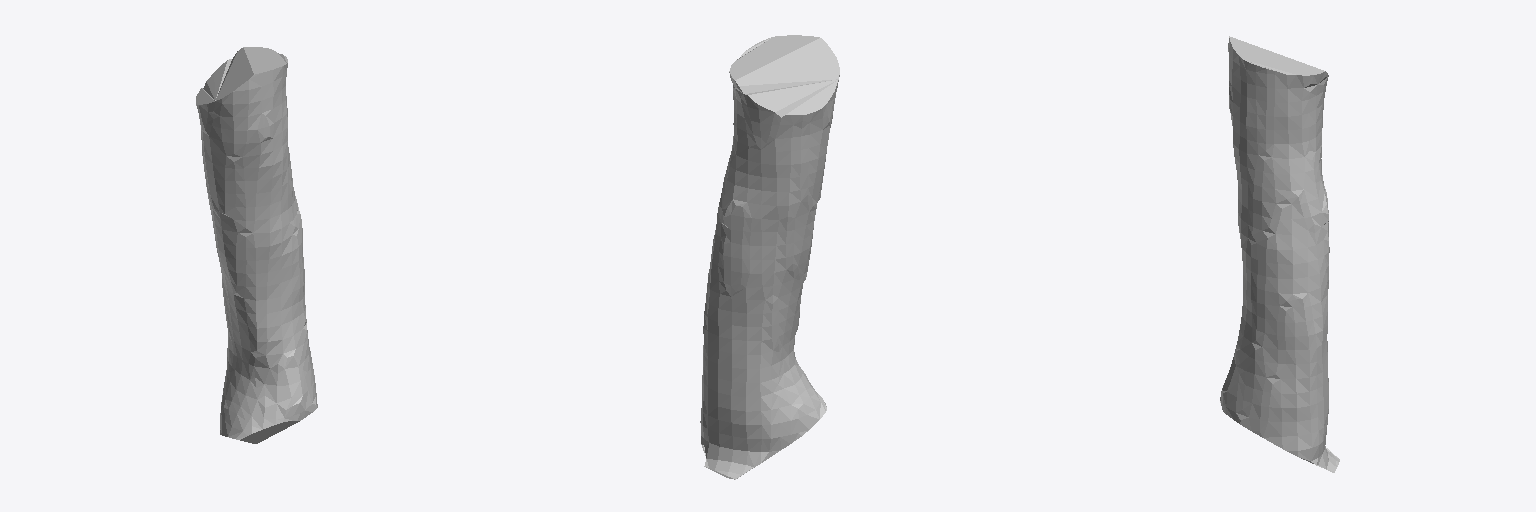
File: low_cell_020.obj
The picture shows the model from 3 angles: view 1: azimuth 30°, elevation 25°; view 2: azimuth 150°, elevation 25°; view 3: azimuth 270°, elevation 25°; orthographic projection.
Parts seen in each view (by area): view 1: low_cell.020_low_cell.019; view 2: low_cell.020_low_cell.019; view 3: low_cell.020_low_cell.019.
Boxes of the visible parts, x1=… form: low_cell.020_low_cell.019: x1=196, y1=47, x2=317, y2=443; low_cell.020_low_cell.019: x1=700, y1=35, x2=839, y2=479; low_cell.020_low_cell.019: x1=1220, y1=36, x2=1339, y2=472.
Size of the model in its own units: 0.1753 by 0.5955 by 0.1569.